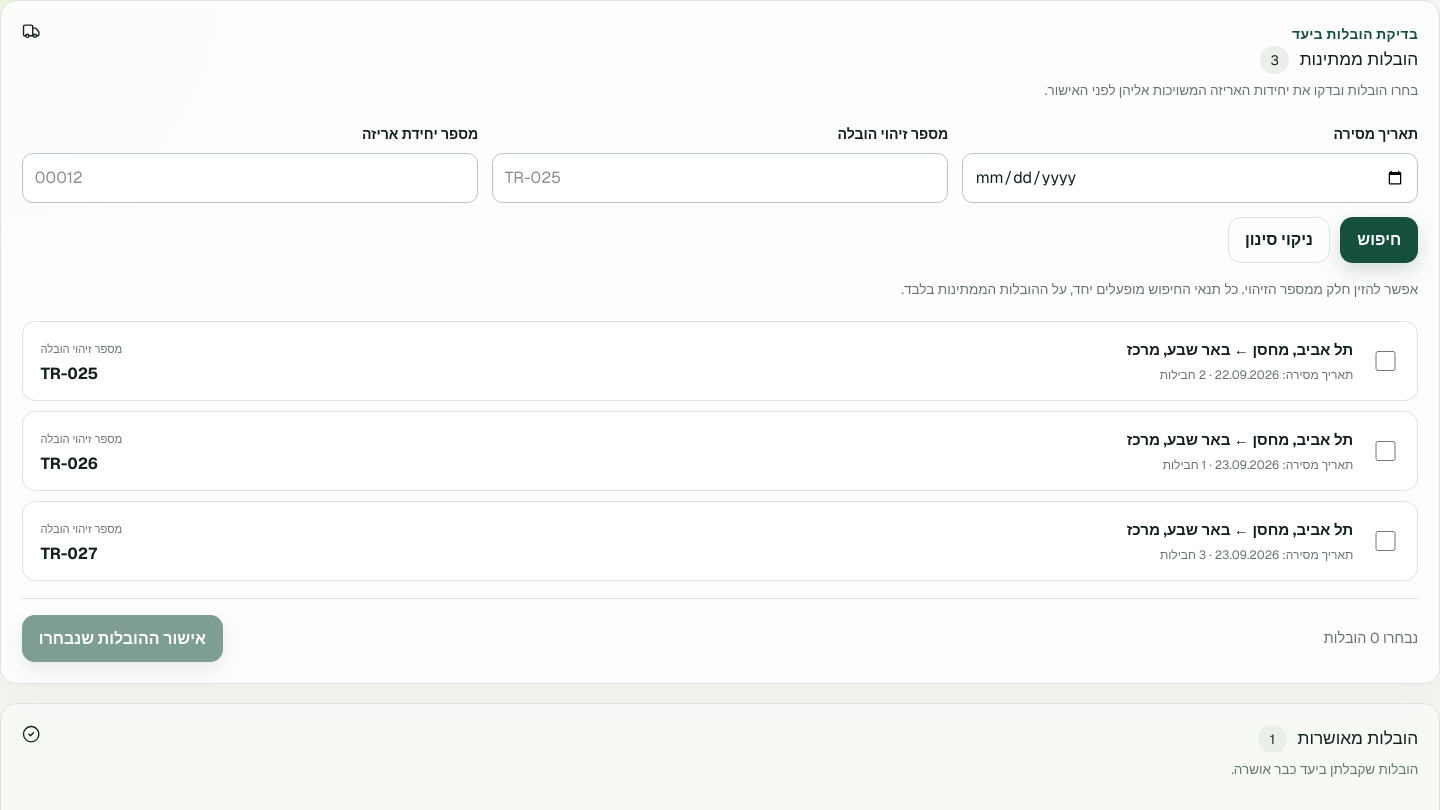
delivery receiving › reviews each unit and its items under the correct delivery
Click the checkbox named "בחירת הובלה TR-025: תל אביב, מחסן ← באר שבע, מרכז" at {"x": 1386, "y": 361}, box [1375,351,1396,371]
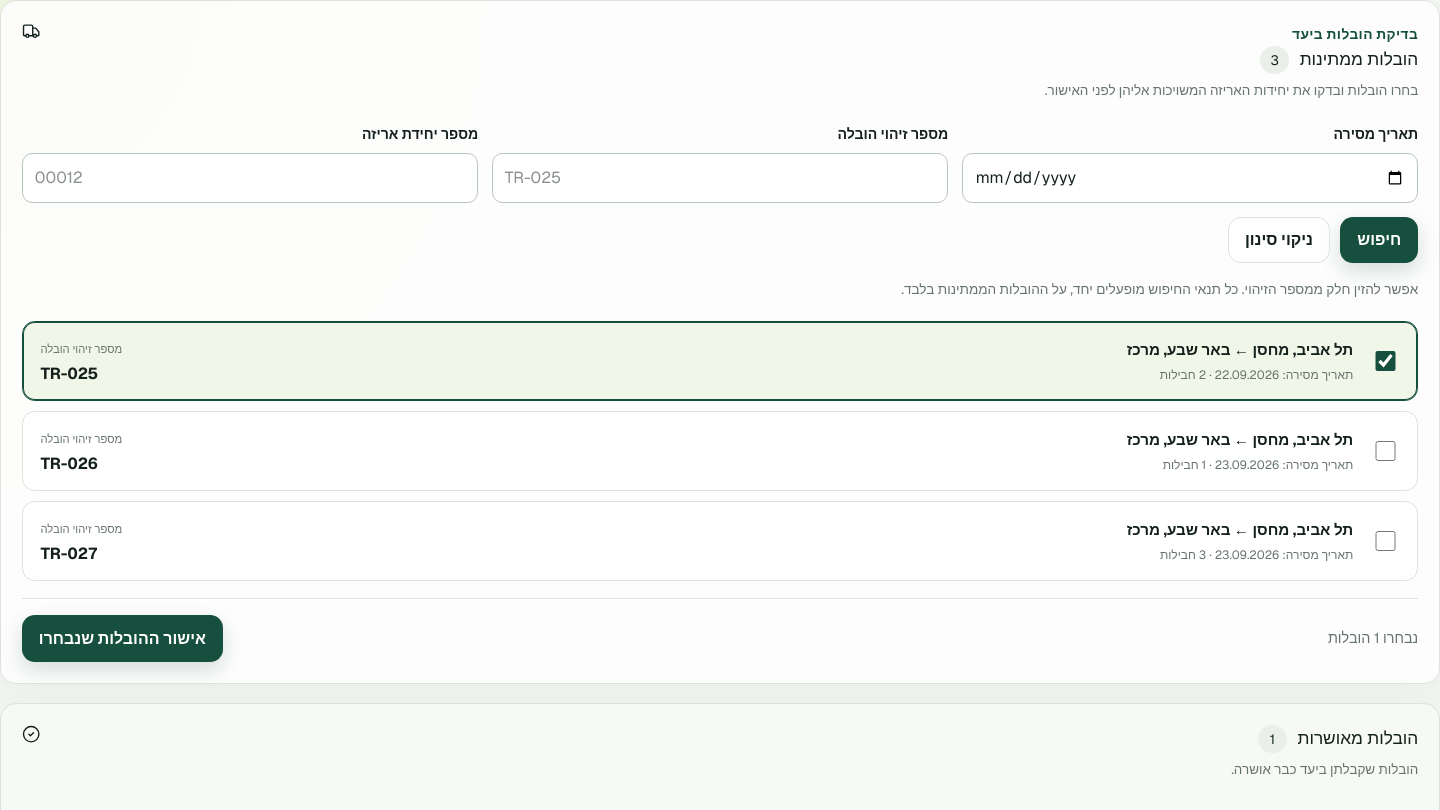
Click the checkbox named "בחירת הובלה TR-027: תל אביב, מחסן ← באר שבע, מרכז" at {"x": 1386, "y": 541}, box [1375,530,1396,551]
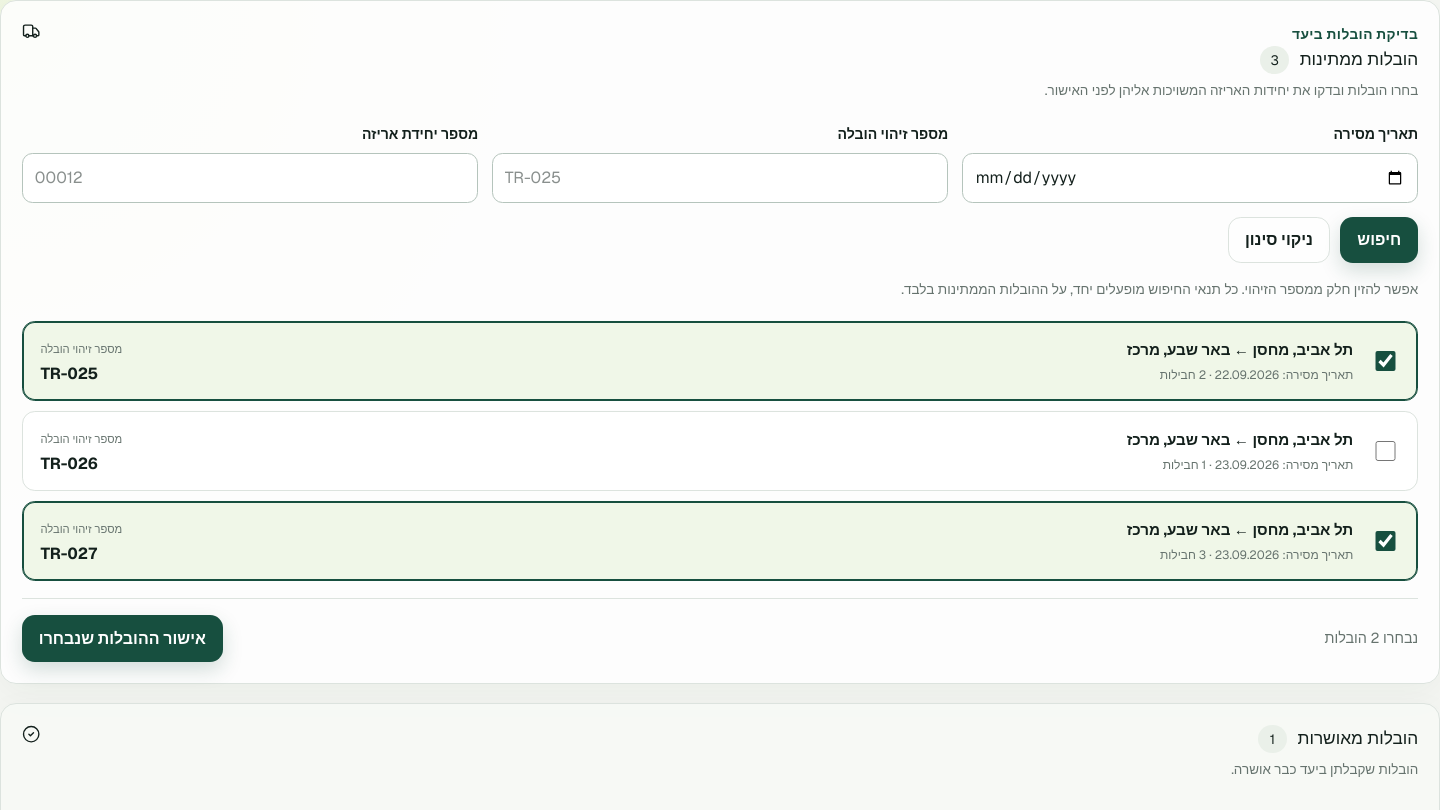
Click the button "אישור ההובלות שנבחרו" at {"x": 122, "y": 639}, box [22,615,223,662]
(page scrolled)
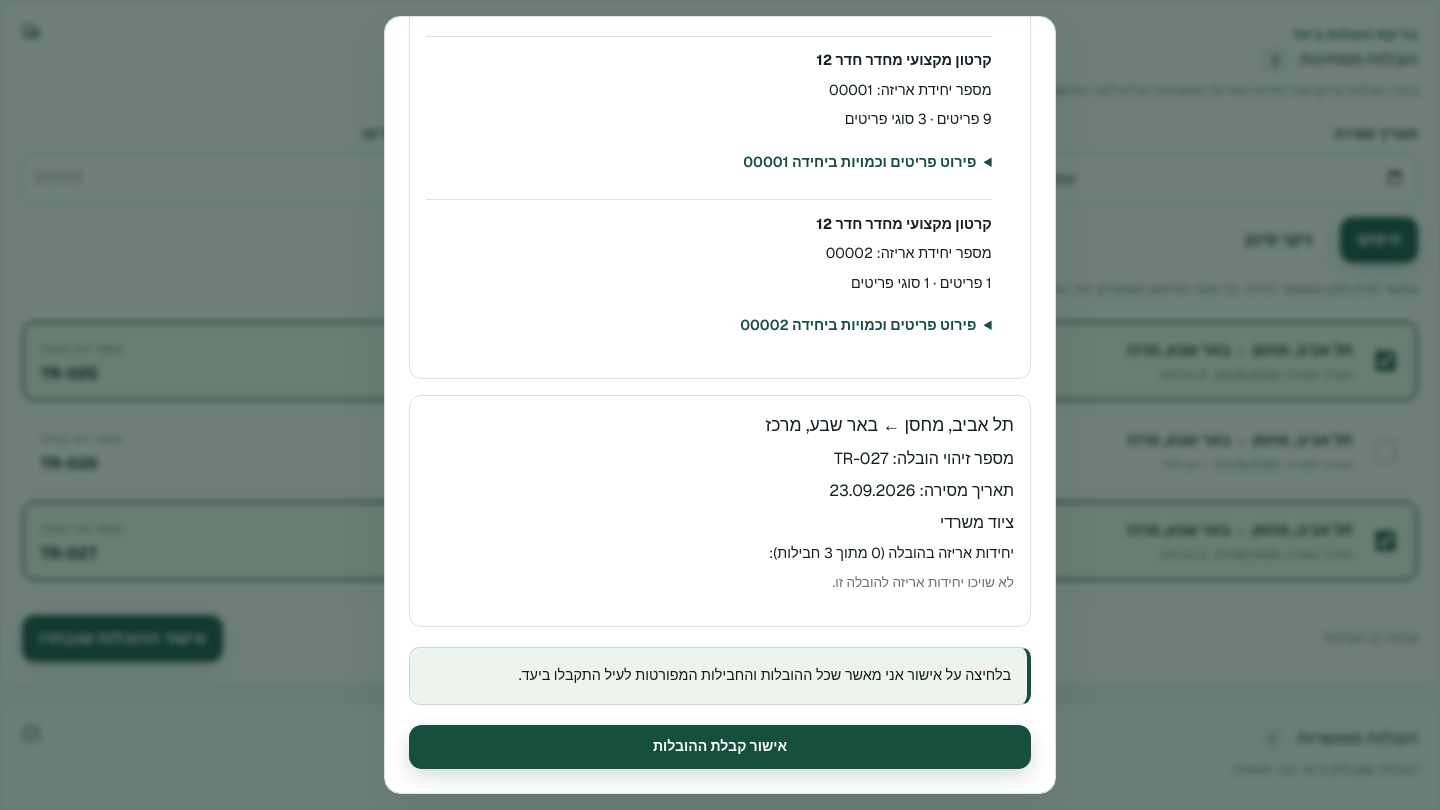
Expected: the element named "הובלה TR-025" shows "00001", [829,81,873,99]
Expected: the element named "הובלה TR-025" shows "00002", [826,244,873,262]
Expected: the element named "הובלה TR-025" shows "9 פריטים · 3 סוגי פריטים", [409,16,1031,379]
